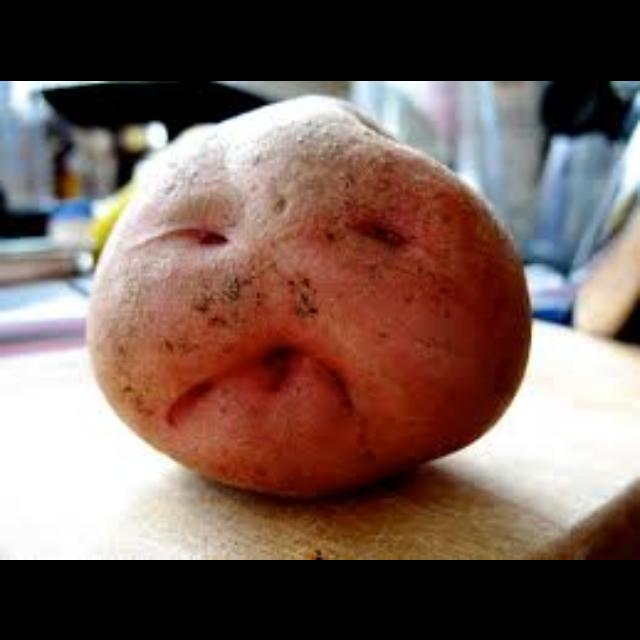Damaged potato: (81, 97, 536, 517)
